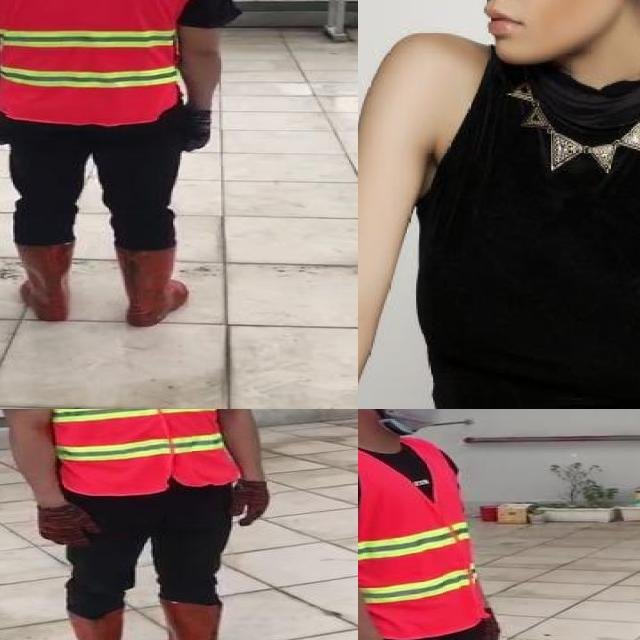boots: (114, 245, 191, 327), (13, 242, 75, 323), (165, 599, 266, 640), (67, 612, 140, 640)
face_mask: (371, 409, 455, 433)
face_nomask: (449, 0, 601, 68)
hand_glove: (41, 504, 99, 547), (231, 480, 272, 527), (186, 107, 210, 151), (0, 105, 7, 146)
person: (358, 0, 640, 409), (0, 0, 238, 341), (0, 409, 279, 640), (358, 409, 539, 640)
vest: (358, 434, 489, 637), (0, 0, 192, 125), (46, 409, 234, 494)
